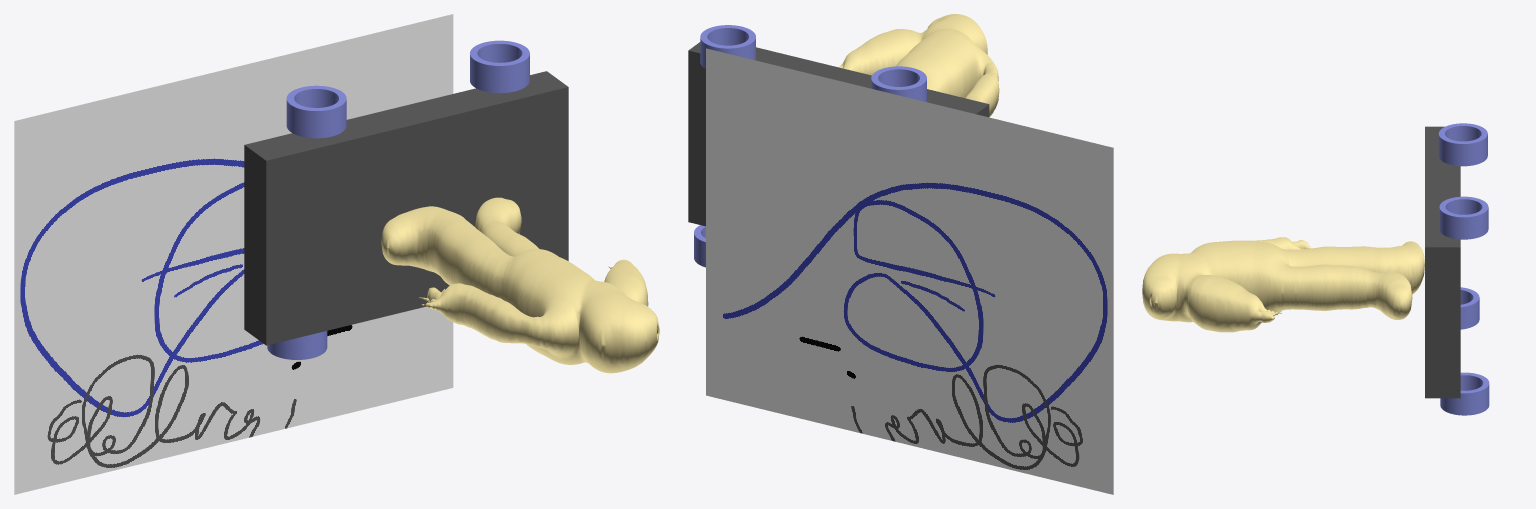
3 views of the same model, side by side, from view 1: azimuth 30°, elevation 25°; view 2: azimuth 150°, elevation 25°; view 3: azimuth 270°, elevation 25° (orthographic). The views are drawn at different scales.
Visible parts, largest first — view 1: mesh_id1, mesh_id31, mesh_id45, mesh_id35, mesh_id36, mesh_id37; view 2: mesh_id1, mesh_id45, mesh_id31, mesh_id36, mesh_id35, mesh_id38; view 3: mesh_id45, mesh_id31, mesh_id36, mesh_id35, mesh_id38, mesh_id37.
Boxes of the visible parts, x1,y1,x2,y2 form: mesh_id1: [14, 14, 453, 494]; mesh_id31: [244, 71, 568, 345]; mesh_id45: [381, 197, 659, 373]; mesh_id35: [286, 85, 346, 138]; mesh_id36: [470, 40, 529, 93]; mesh_id37: [267, 331, 327, 359]; mesh_id1: [706, 48, 1113, 494]; mesh_id45: [839, 14, 999, 116]; mesh_id31: [688, 42, 989, 226]; mesh_id36: [700, 25, 755, 68]; mesh_id35: [871, 66, 926, 101]; mesh_id38: [694, 225, 705, 267]; mesh_id45: [1142, 237, 1424, 332]; mesh_id31: [1425, 126, 1460, 398]; mesh_id36: [1439, 196, 1488, 239]; mesh_id35: [1438, 123, 1487, 166]; mesh_id38: [1440, 372, 1489, 415]; mesh_id37: [1460, 287, 1479, 329].
Bounding box in the file's own units: 0.8775 × 0.633 × 0.7122.
4 materials, 3 textured.
